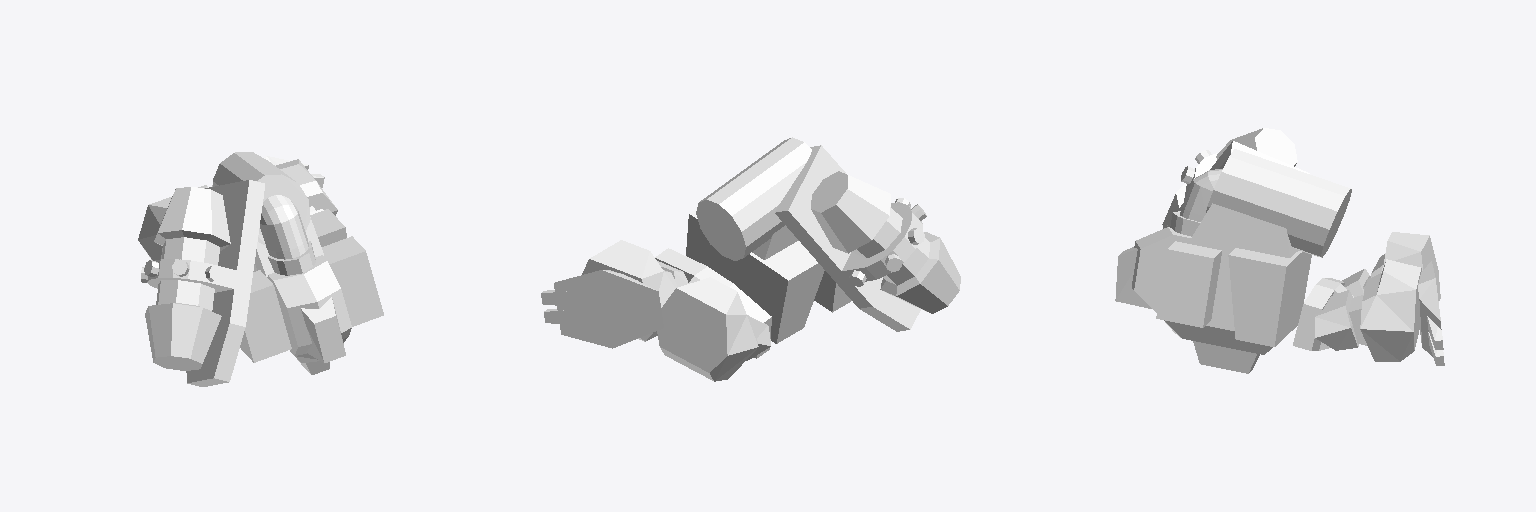
Rendered from armjeth_anim_death.obj.
The picture shows the model from 3 angles: view 1: azimuth 30°, elevation 25°; view 2: azimuth 150°, elevation 25°; view 3: azimuth 270°, elevation 25°; orthographic projection.
Visible parts, largest first — view 1: torso, rbarrel, rturret, lleg, rleg; view 2: torso, rbarrel, rturret, rleg, lfoot, lleg, pelvis; view 3: torso, lleg, lthigh, lfoot, rbarrel, rleg, pelvis, rturret.
Part boxes in pixels (x1,y1,x2,y2): torso: (213,152,383,374); rbarrel: (145,187,230,370); rturret: (141,180,264,386); lleg: (276,159,337,215); rleg: (138,185,207,260); torso: (686,137,851,343); rbarrel: (811,171,960,313); rturret: (775,145,926,331); rleg: (657,277,758,381); lfoot: (541,270,663,348); lleg: (582,240,677,341); pelvis: (655,248,771,358); torso: (1115,149,1351,373); lleg: (1360,259,1421,361); lthigh: (1315,290,1366,350); lfoot: (1418,261,1444,365); rbarrel: (1162,128,1297,228); rleg: (1371,232,1440,300); pelvis: (1293,278,1353,350); rturret: (1167,141,1309,226).
Size of the model in its own units: 30.59 by 20.17 by 29.84.